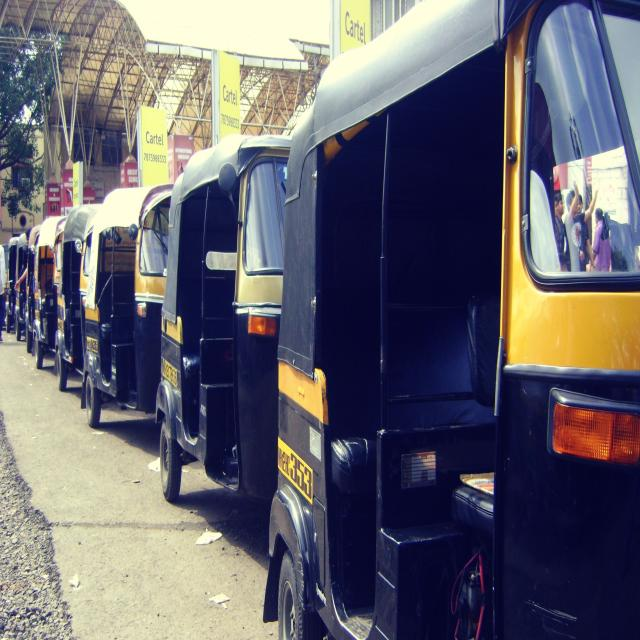autorickshaw: (264, 0, 640, 640), (156, 133, 290, 500), (81, 182, 172, 427), (55, 204, 96, 391), (32, 216, 61, 369), (6, 233, 29, 340), (25, 224, 41, 351)
